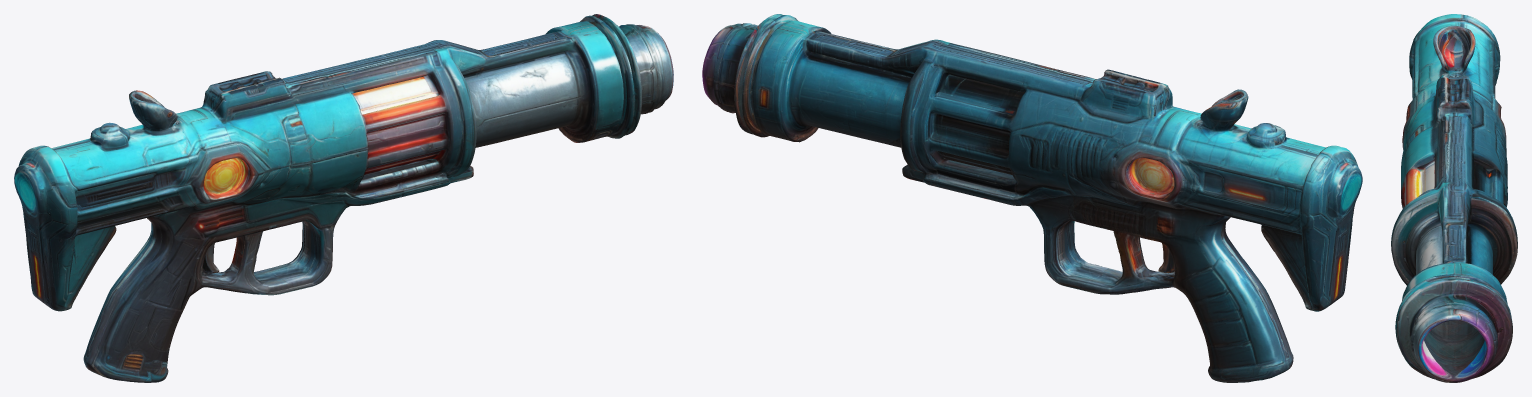
The model's file is DefaultGun.fbx.
3 views of the same model, side by side, from view 1: azimuth 30°, elevation 25°; view 2: azimuth 150°, elevation 25°; view 3: azimuth 270°, elevation 25° (orthographic). The views are drawn at different scales.
Visible parts, largest first — view 1: Mesh_0; view 2: Mesh_0; view 3: Mesh_0.
Boxes of the visible parts, box(x1,y1,x2,y2) form: Mesh_0: box(14, 14, 673, 382); Mesh_0: box(702, 14, 1362, 382); Mesh_0: box(1391, 14, 1517, 382).
Bounding box in the file's own units: 200 × 86.09 × 37.17.
Materials: 1 (1 with a texture image).
